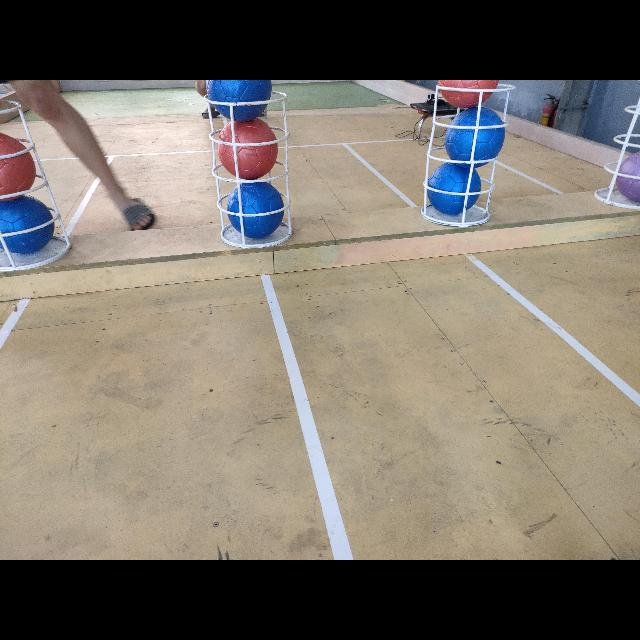B: (444, 106, 506, 170), (228, 181, 284, 239), (0, 198, 54, 255), (426, 162, 482, 216), (205, 80, 272, 121)
R: (219, 119, 279, 180), (1, 131, 36, 197), (438, 80, 500, 106)
